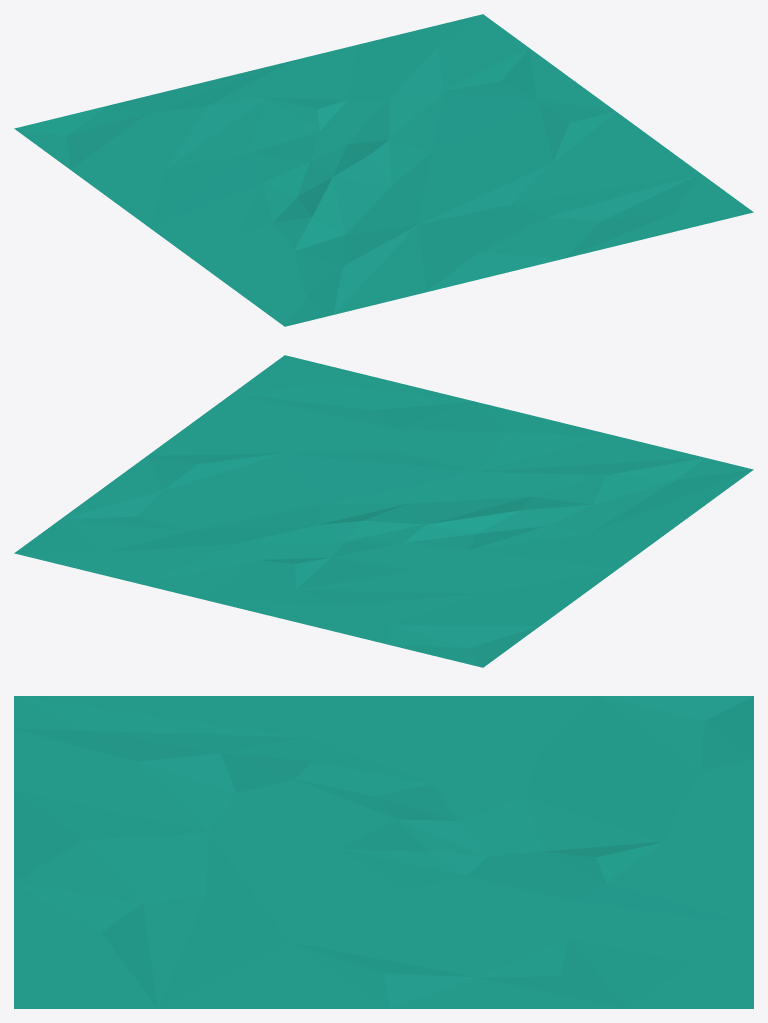
Rendered from TB_D_Env_Tile_Water.FBX.
3 views of the same model, one above another, from view 1: azimuth 30°, elevation 25°; view 2: azimuth 150°, elevation 25°; view 3: azimuth 270°, elevation 25° (orthographic). The views are drawn at different scales.
Visible parts, largest first — view 1: TB_D_Env_Tile_Water; view 2: TB_D_Env_Tile_Water; view 3: TB_D_Env_Tile_Water.
Part boxes in pixels (bbox=[...]): TB_D_Env_Tile_Water: bbox=[14, 14, 753, 326]; TB_D_Env_Tile_Water: bbox=[14, 355, 753, 667]; TB_D_Env_Tile_Water: bbox=[14, 696, 753, 1008].
Bounding box in the file's own units: 20 × 0.221 × 20.
